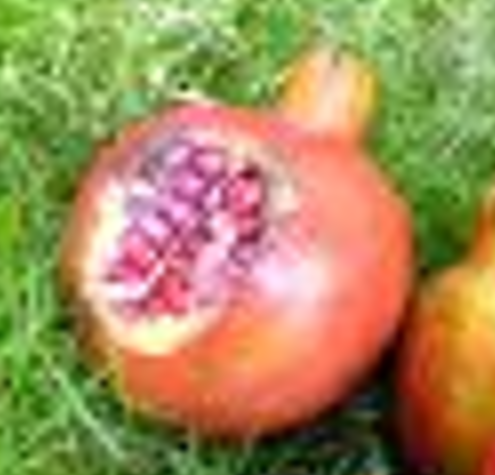pomegranate_C: (59, 38, 419, 437)
